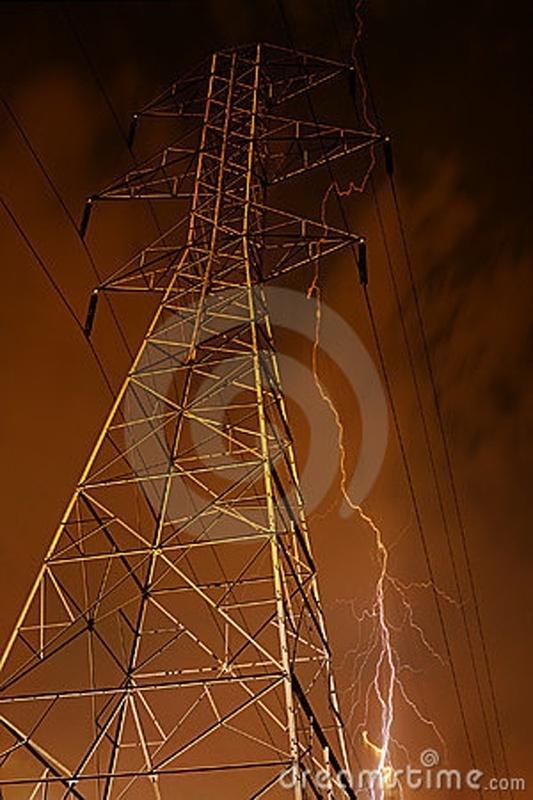power_tower: (22, 29, 366, 716)
